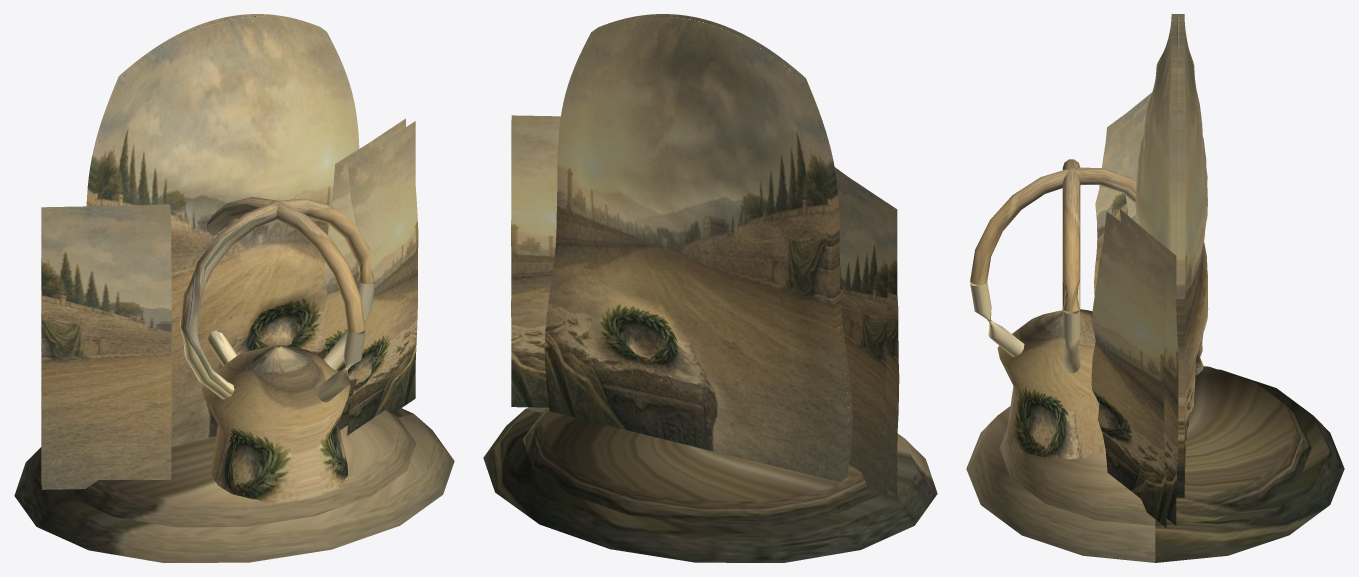
Rendered from grace-mercy-and-peace-28.glb.
The picture shows the model from 3 angles, left to right: view 1: azimuth 30°, elevation 25°; view 2: azimuth 150°, elevation 25°; view 3: azimuth 270°, elevation 25°; orthographic projection. The views are drawn at different scales.
Parts seen in each view (by area): view 1: PaintingSculptureMonument; view 2: PaintingSculptureMonument; view 3: PaintingSculptureMonument.
Part boxes in pixels (x1,y1,x2,y2): PaintingSculptureMonument: (14,14,454,562); PaintingSculptureMonument: (483,14,937,562); PaintingSculptureMonument: (966,14,1344,562).
Bounding box in the file's own units: 2.76 × 2.99 × 2.35.
Materials: 1 (1 with a texture image).
